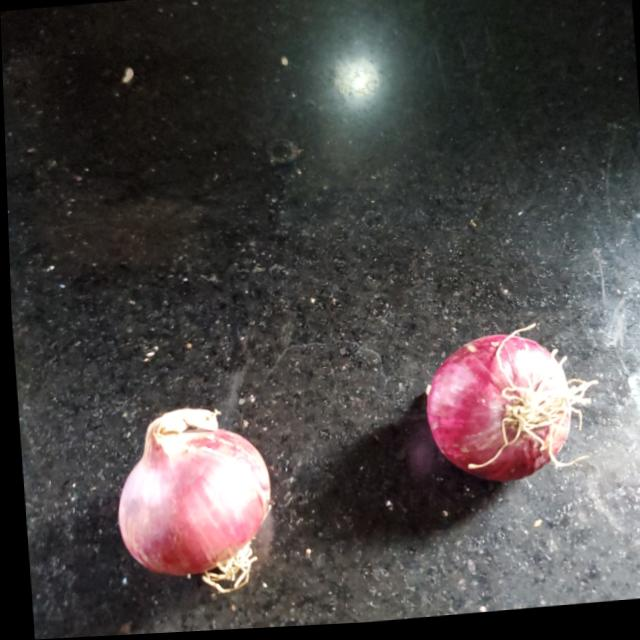onion: (105, 406, 269, 577), (416, 335, 571, 491)
